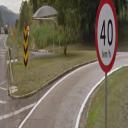speed_limit_40: (95, 0, 118, 73)
